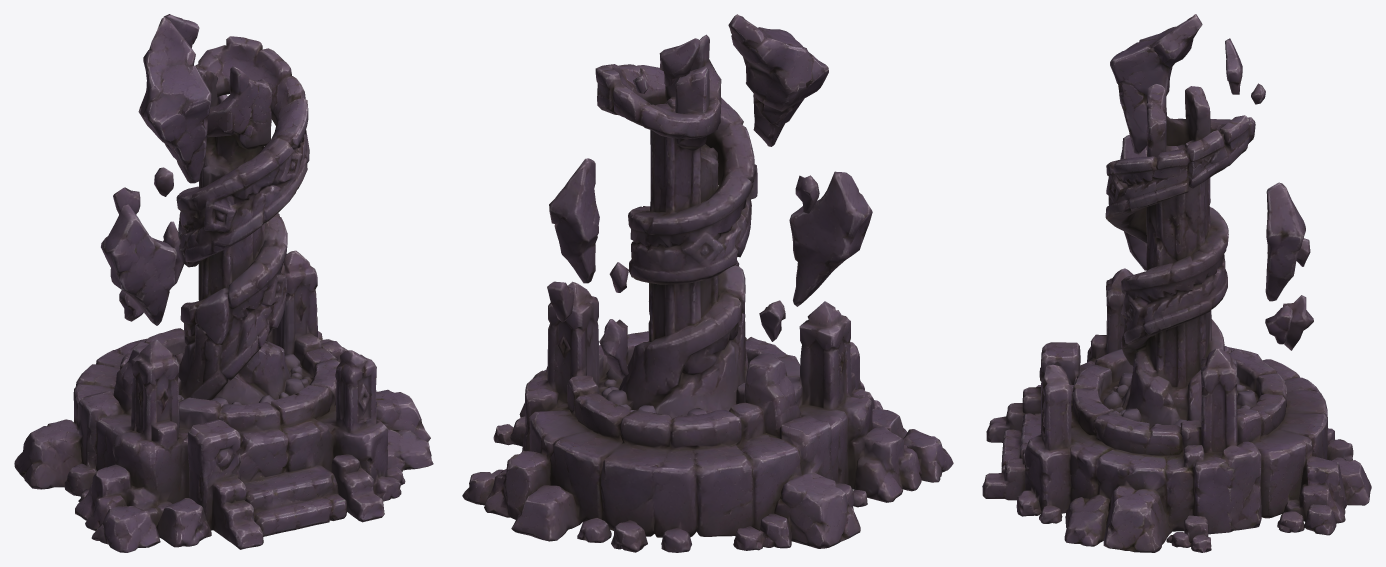
The model's file is shrine_chaos.glb.
3 renders of one model, left to right at view 1: azimuth 30°, elevation 25°; view 2: azimuth 150°, elevation 25°; view 3: azimuth 270°, elevation 25°, orthographic. The views are drawn at different scales.
Visible parts, largest first — view 1: tripo_node_5ef07064-1972-429d-a3b9-e4de1b9b33de; view 2: tripo_node_5ef07064-1972-429d-a3b9-e4de1b9b33de; view 3: tripo_node_5ef07064-1972-429d-a3b9-e4de1b9b33de.
Boxes of the visible parts, x1=… form: tripo_node_5ef07064-1972-429d-a3b9-e4de1b9b33de: x1=14, y1=14, x2=433, y2=552; tripo_node_5ef07064-1972-429d-a3b9-e4de1b9b33de: x1=462, y1=14, x2=953, y2=552; tripo_node_5ef07064-1972-429d-a3b9-e4de1b9b33de: x1=982, y1=14, x2=1371, y2=552.
Bounding box in the file's own units: 0.8312 × 1 × 0.8135.
1 material, 1 textured.
